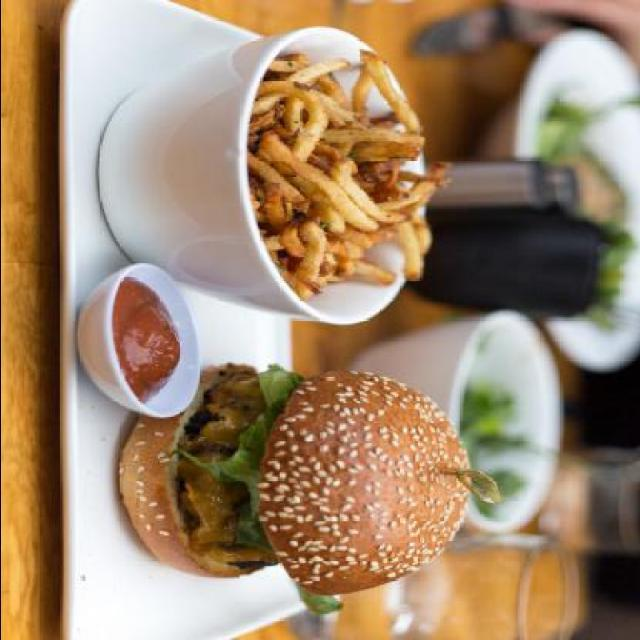Hamburger: (117, 363, 468, 615)
